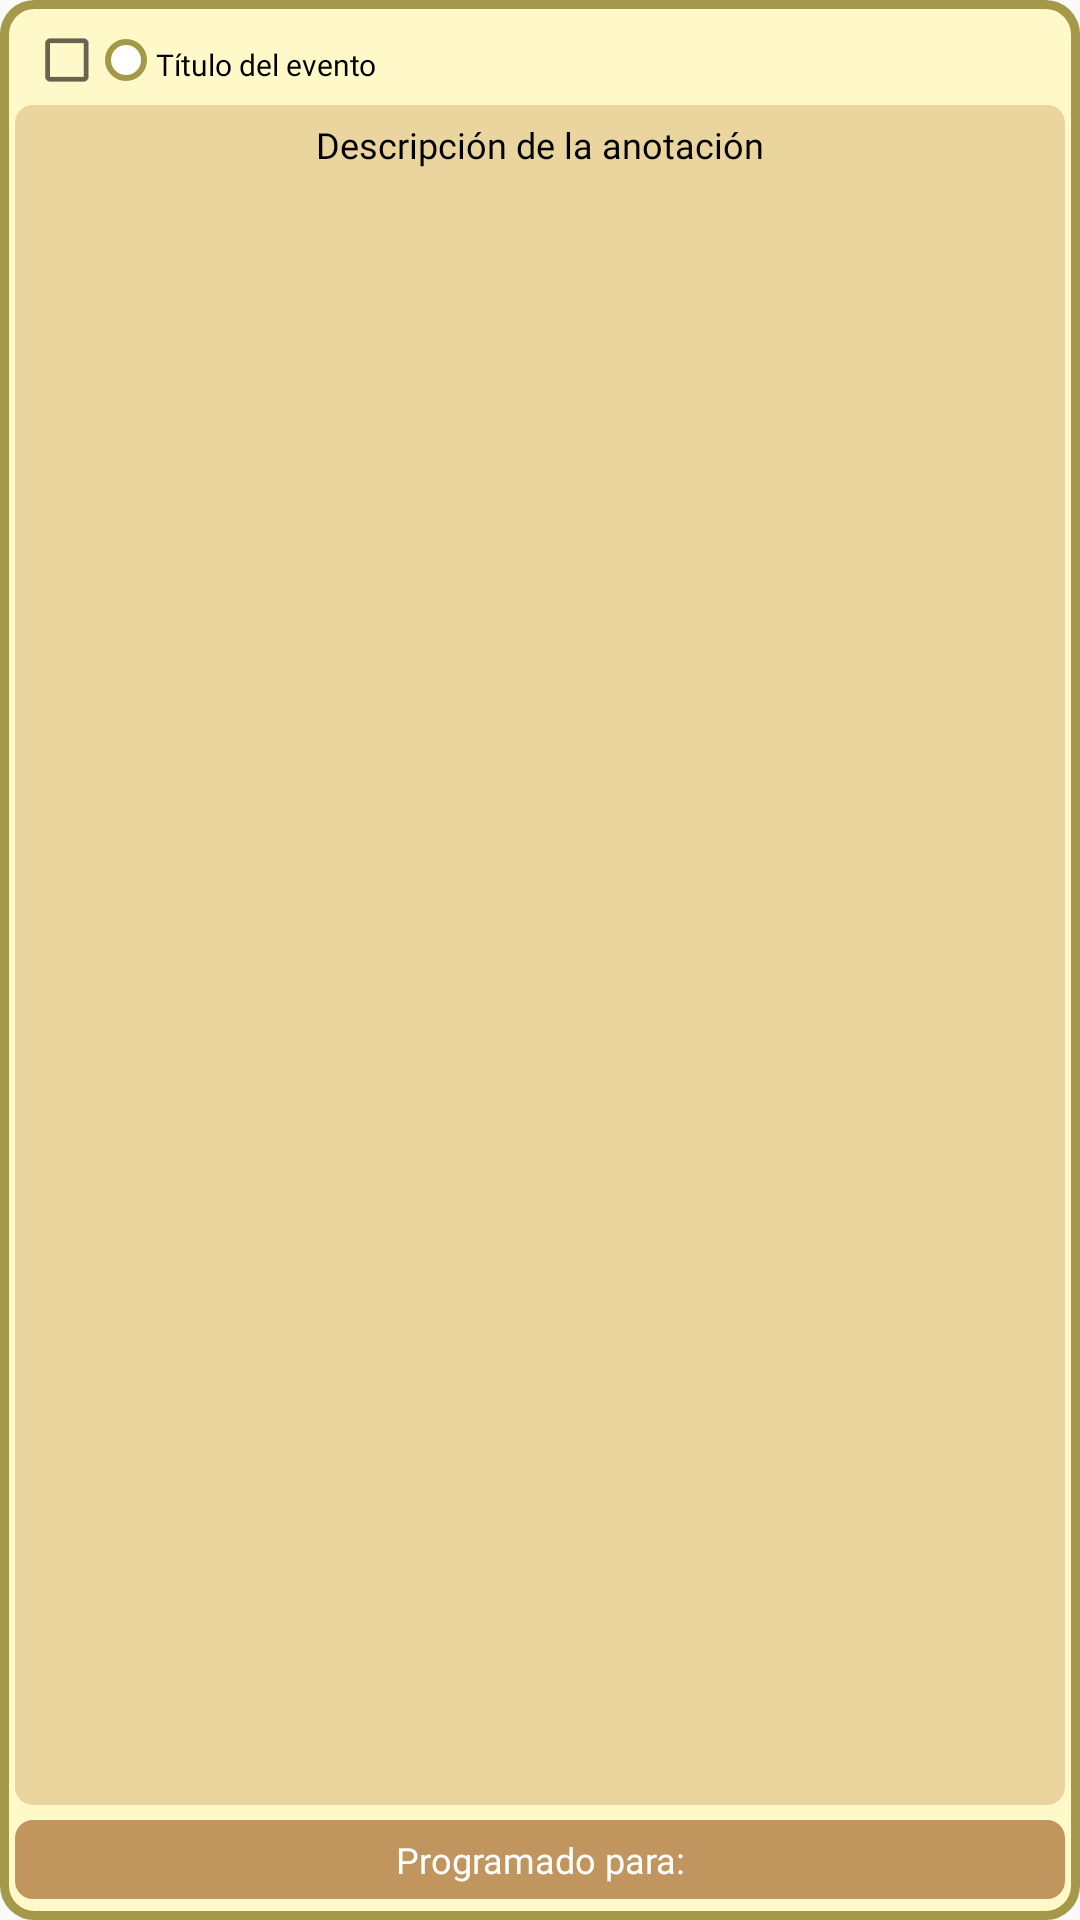

Icon bounding boxes for this 1080*1920 phone screenshot, format bbox=[x1, y1, x2, y2]:
circular element: bbox=[105, 39, 147, 81]
